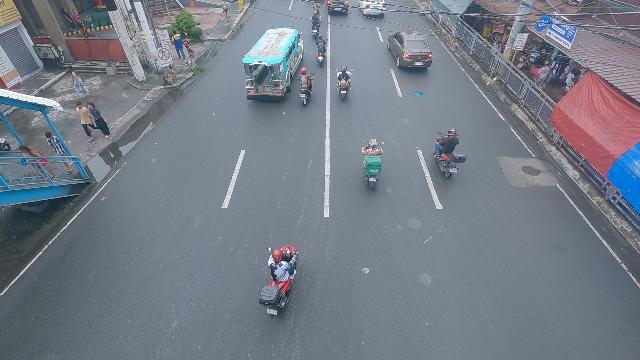car: (386, 31, 433, 72), (358, 0, 385, 18), (326, 0, 349, 14)
jeepney: (243, 26, 302, 102)
motorcycle: (256, 244, 300, 321), (430, 123, 465, 182), (360, 138, 385, 192), (298, 66, 317, 109), (335, 66, 354, 102), (314, 37, 328, 69), (310, 10, 322, 36)
